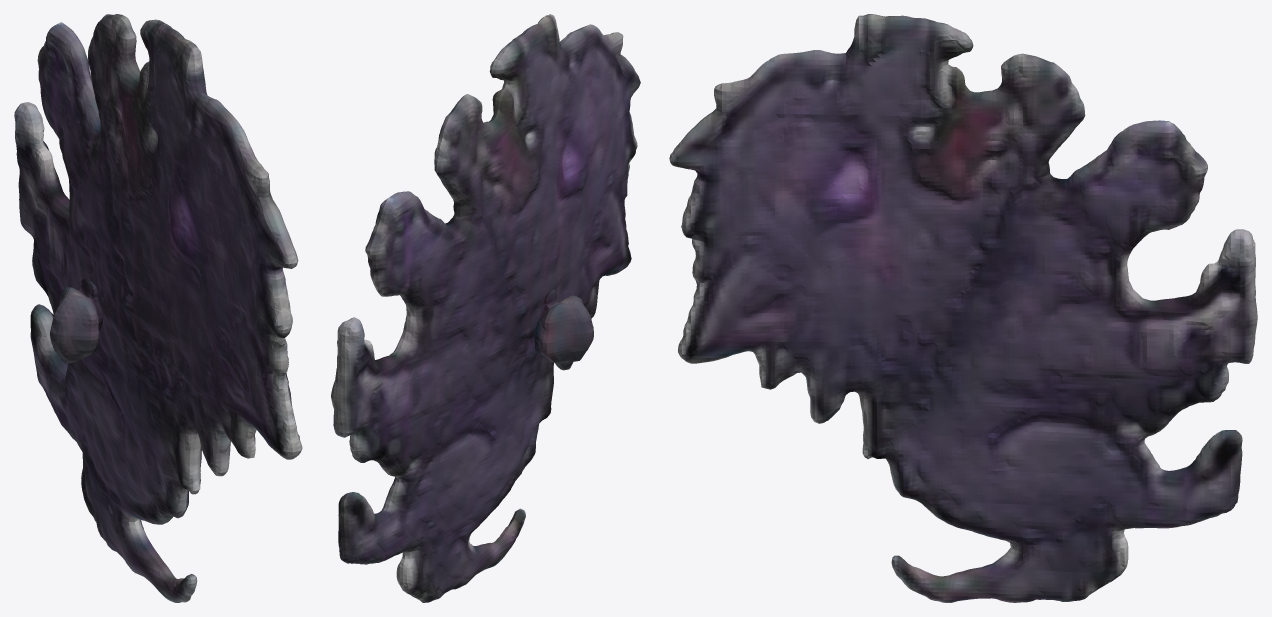
Rendered from wolf_tsr.glb.
3 views of the same model, side by side, from view 1: azimuth 30°, elevation 25°; view 2: azimuth 150°, elevation 25°; view 3: azimuth 270°, elevation 25° (orthographic). The views are drawn at different scales.
Visible parts, largest first — view 1: world; view 2: world; view 3: world.
Boxes of the visible parts, x1,y1,x2,y2 form: world: (14,14,302,602); world: (331,14,640,602); world: (669,14,1257,602).
Size of the model in its own units: 0.2492 by 0.9844 by 0.9064.
